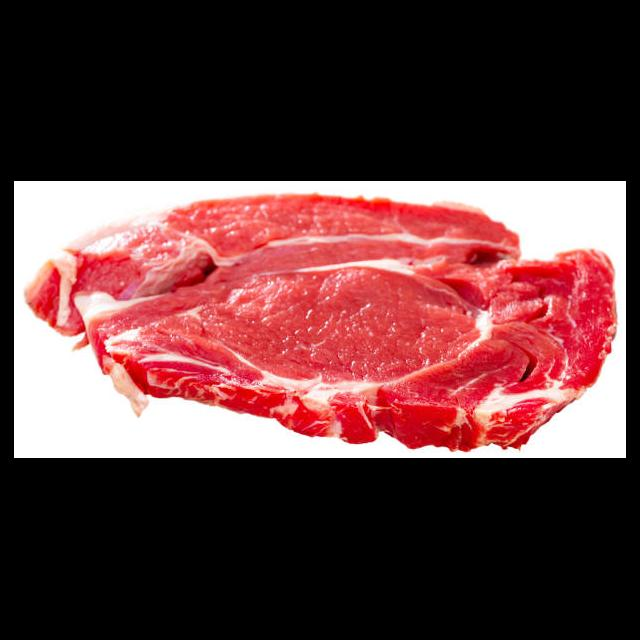beef: (23, 192, 620, 454)
